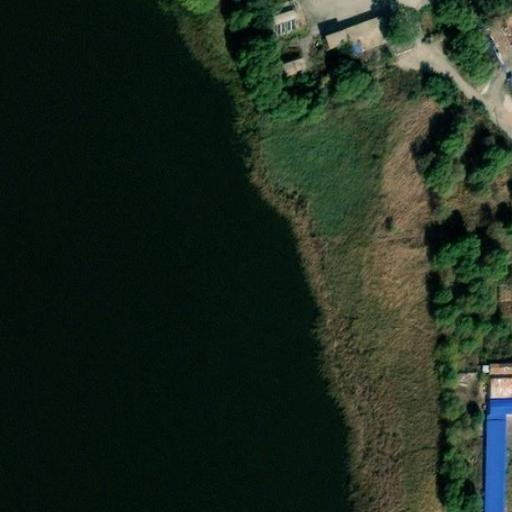building: (246, 0, 301, 43), (477, 426, 502, 512), (341, 18, 390, 61), (319, 33, 348, 59), (482, 400, 512, 419), (483, 381, 512, 400), (277, 66, 301, 87)
